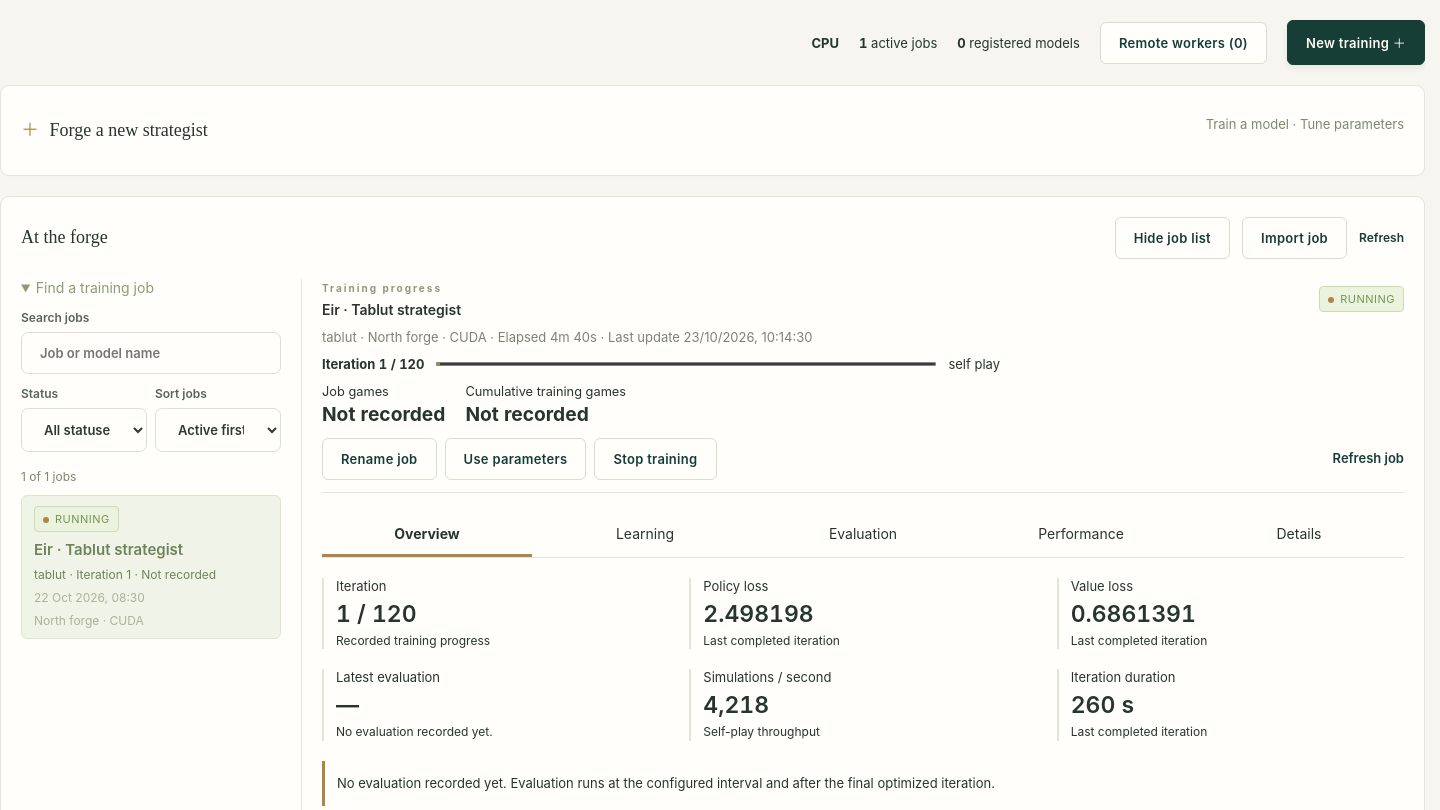
it: refreshes a mutation after its obsolete in-flight poll fails
Click the button "Stop training": (656, 459) [594, 438, 717, 480]
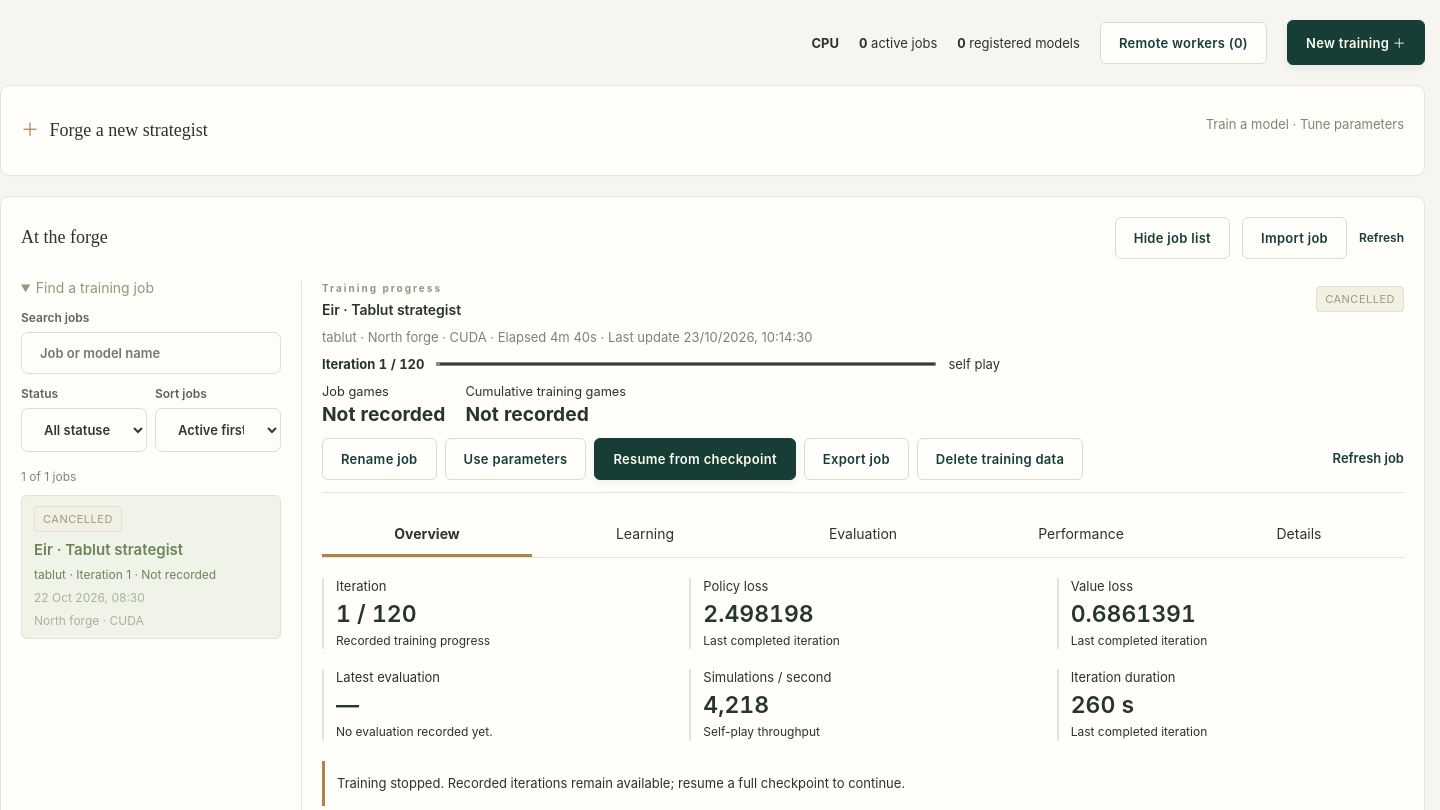
Check: the message with class "job-status" reads "cancelled", box [1325, 292, 1395, 306]
